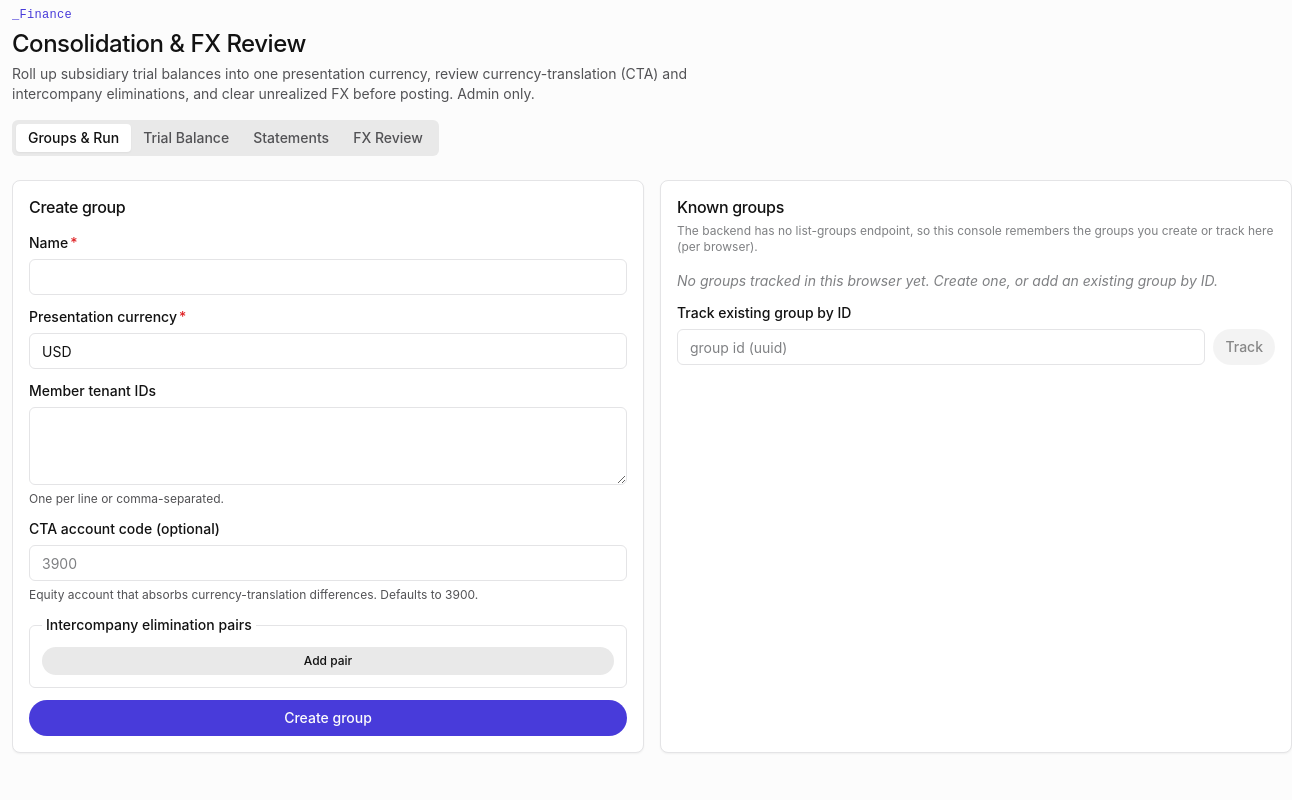
Scenario: ConsolidationPage › creates a group from the groups tab and marks it active
Type "Global" into the field labelled "Name*". click: (328, 277)
box: [29,259,627,295]
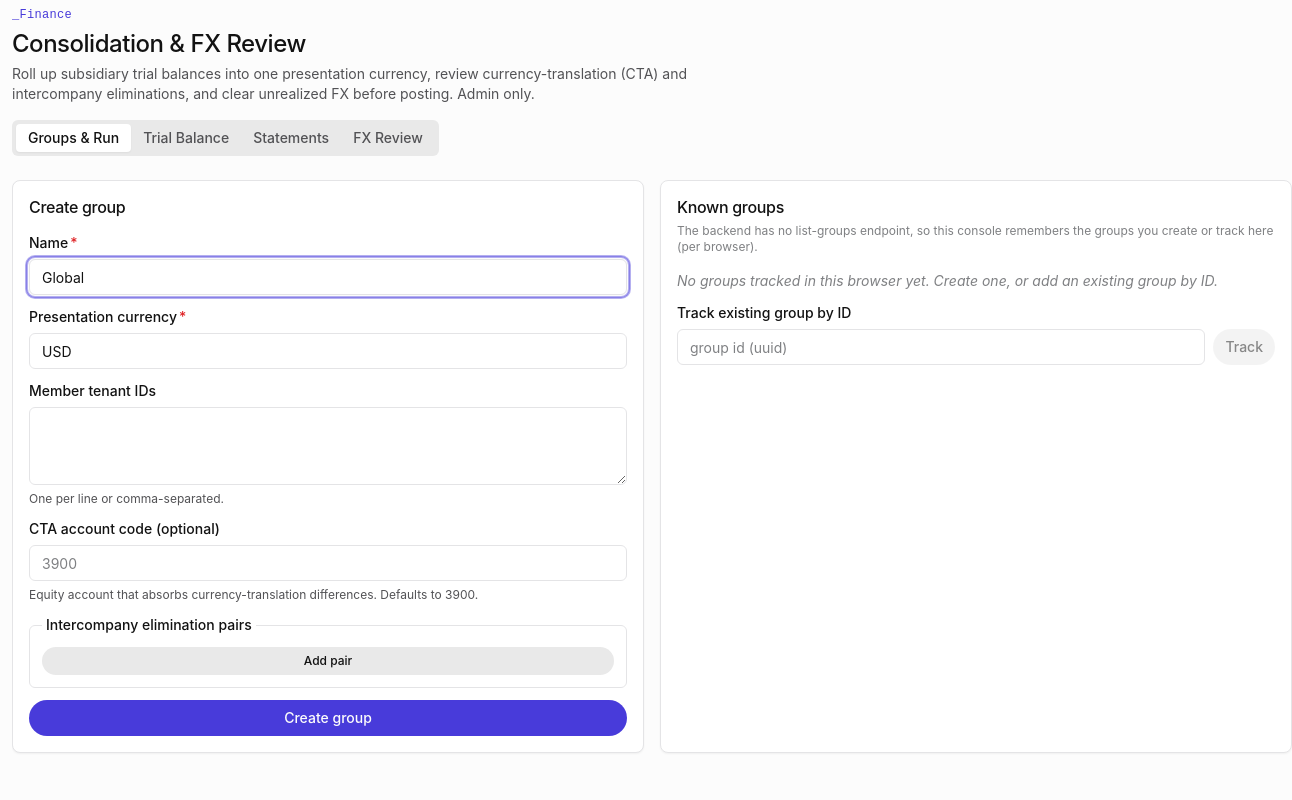
Click the button "Create group". click: (328, 718)
box: [29,700,627,736]
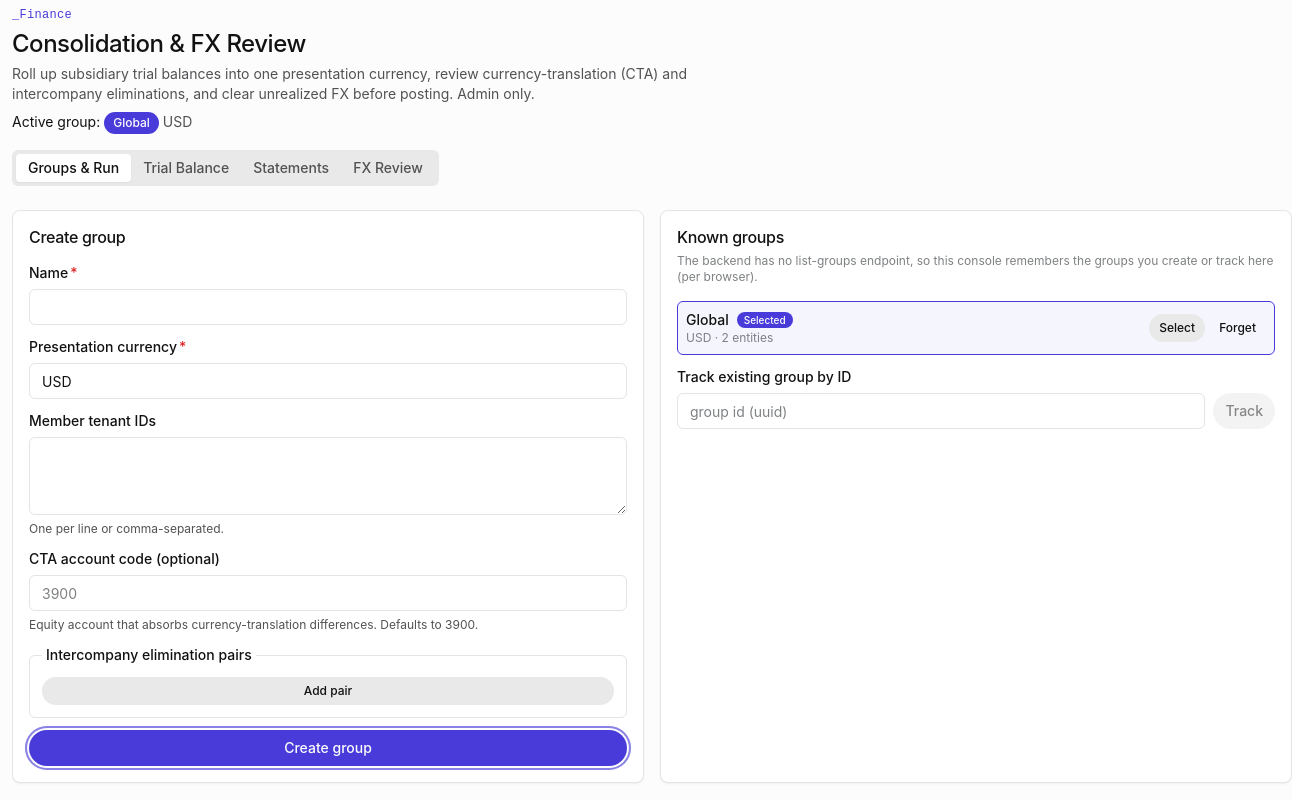
Expected: the text "Active group: Global USD" is shown, [12,112,192,134]
